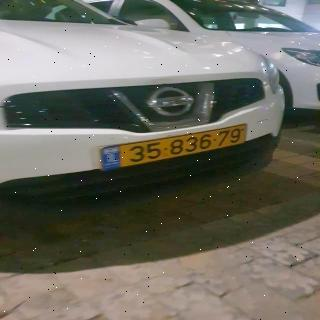LicensePlate: (117, 120, 250, 167)
